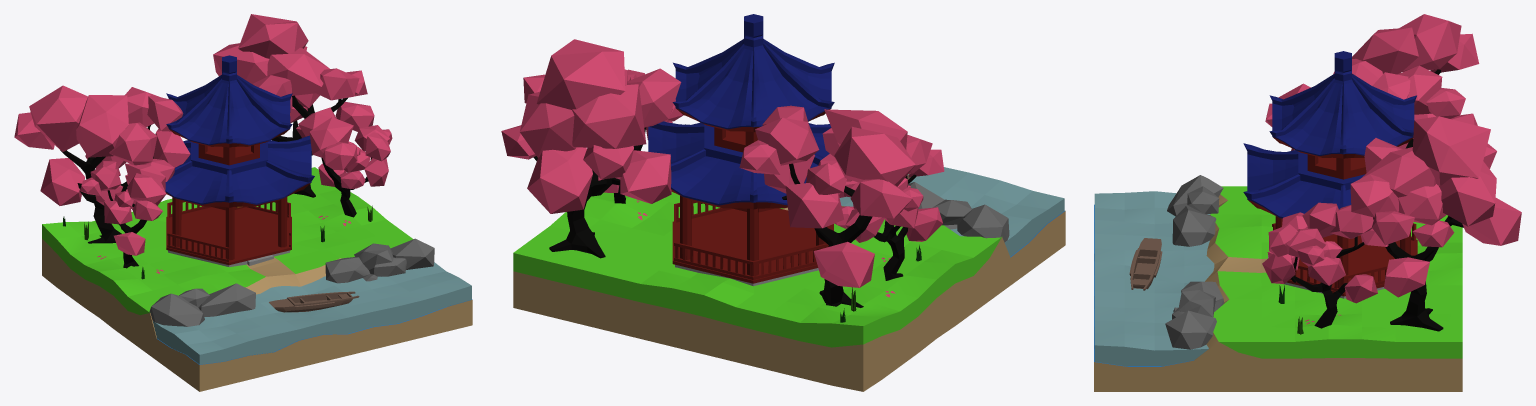
File: Spring.fbx
3 views of the same model, side by side, from view 1: azimuth 30°, elevation 25°; view 2: azimuth 150°, elevation 25°; view 3: azimuth 270°, elevation 25° (orthographic). The views are drawn at different scales.
Parts seen in each view (by area): view 1: Spring=base=, Tree01, Tree00, Pillar, Base2F, Tree02, Base1F, Tree03, Rock00, Rock01, Boat, Fence; view 2: Spring=base=, Tree00, Tree01, Base2F, Pillar, Base1F, Tree03, Rock01, Fence, Tree02; view 3: Spring=base=, Tree00, Base2F, Tree01, Tree02, Pillar, Rock01, Rock00, Base1F, Boat, Fence.
Boxes of the visible parts, x1,y1,x2,y2 form: Spring=base=: [42, 167, 472, 391]; Tree01: [14, 85, 190, 243]; Tree00: [213, 14, 374, 197]; Pillar: [165, 135, 314, 260]; Base2F: [166, 55, 292, 165]; Tree02: [296, 107, 392, 217]; Base1F: [166, 206, 291, 267]; Tree03: [80, 160, 166, 268]; Rock00: [325, 238, 434, 283]; Rock01: [149, 283, 255, 326]; Boat: [269, 291, 359, 312]; Fence: [167, 201, 290, 259]; Spring=base=: [513, 167, 1065, 391]; Tree00: [501, 39, 681, 258]; Tree01: [739, 105, 915, 307]; Base2F: [672, 14, 834, 152]; Pillar: [648, 121, 831, 276]; Base1F: [672, 208, 833, 286]; Tree03: [835, 134, 944, 280]; Rock01: [908, 182, 1009, 242]; Fence: [674, 201, 832, 276]; Tree02: [598, 69, 683, 203]; Spring=base=: [1094, 186, 1462, 391]; Tree00: [1350, 116, 1521, 331]; Base2F: [1269, 51, 1416, 179]; Tree01: [1333, 14, 1479, 149]; Tree02: [1262, 202, 1388, 328]; Pillar: [1243, 143, 1410, 288]; Rock01: [1167, 175, 1223, 246]; Rock00: [1165, 281, 1223, 349]; Base1F: [1268, 234, 1417, 298]; Boat: [1129, 238, 1162, 290]; Fence: [1272, 223, 1416, 288].
Bounding box in the file's own units: 123 × 77.51 × 116.
